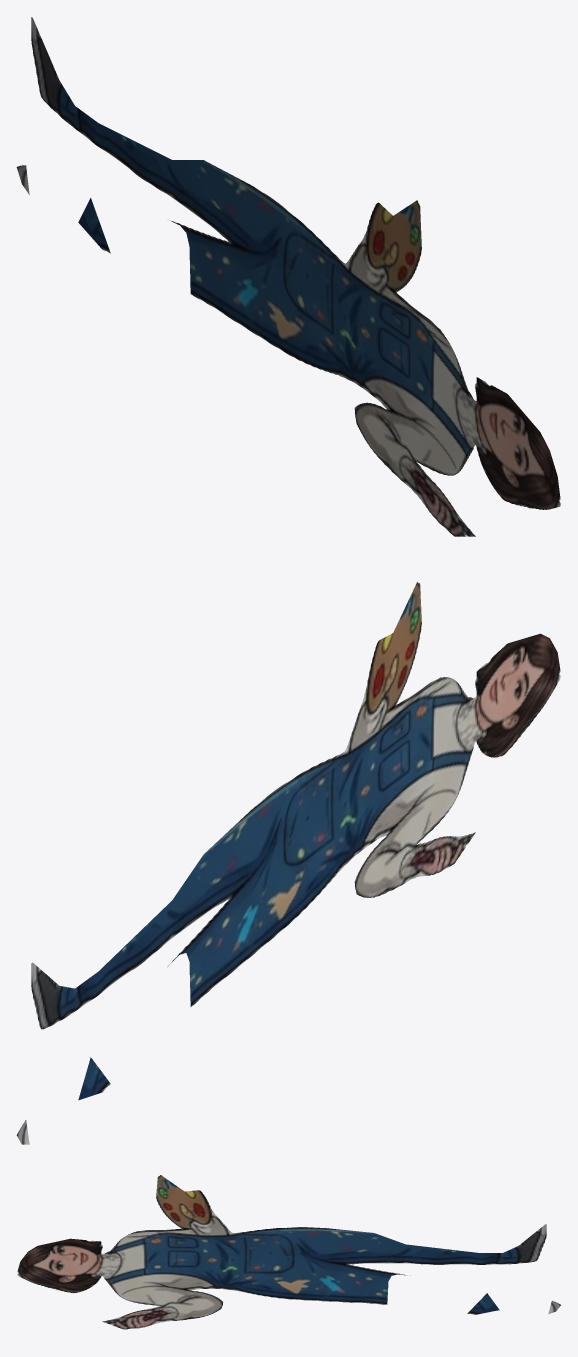
File: person.obj
3 views of the same model, one above another, from view 1: azimuth 30°, elevation 25°; view 2: azimuth 150°, elevation 25°; view 3: azimuth 270°, elevation 25° (orthographic). The views are drawn at different scales.
Visible parts, largest first — view 1: person_cutout; view 2: person_cutout; view 3: person_cutout.
Boxes of the visible parts, x1,y1,x2,y2 form: person_cutout: (16, 17, 560, 536); person_cutout: (16, 582, 560, 1144); person_cutout: (17, 1175, 560, 1329).
Size of the model in its own units: 0 by 0.0507 by 0.1487.
